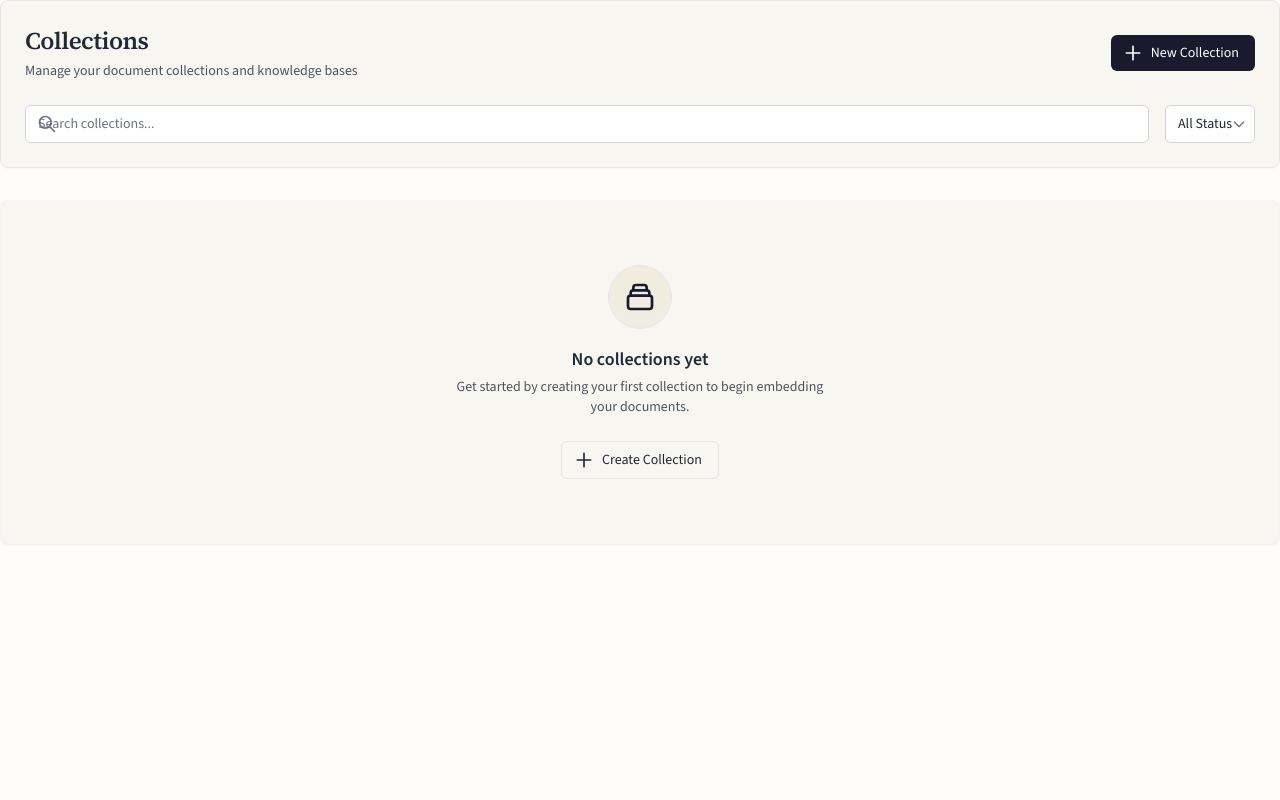
Final Wizard Integration › Wizard Keyboard Navigation › wizard advances with Cmd+Enter when form is valid
This screenshot has width=1280, height=800.
Click the button "New Collection": (1183,53) [1111, 35, 1255, 71]
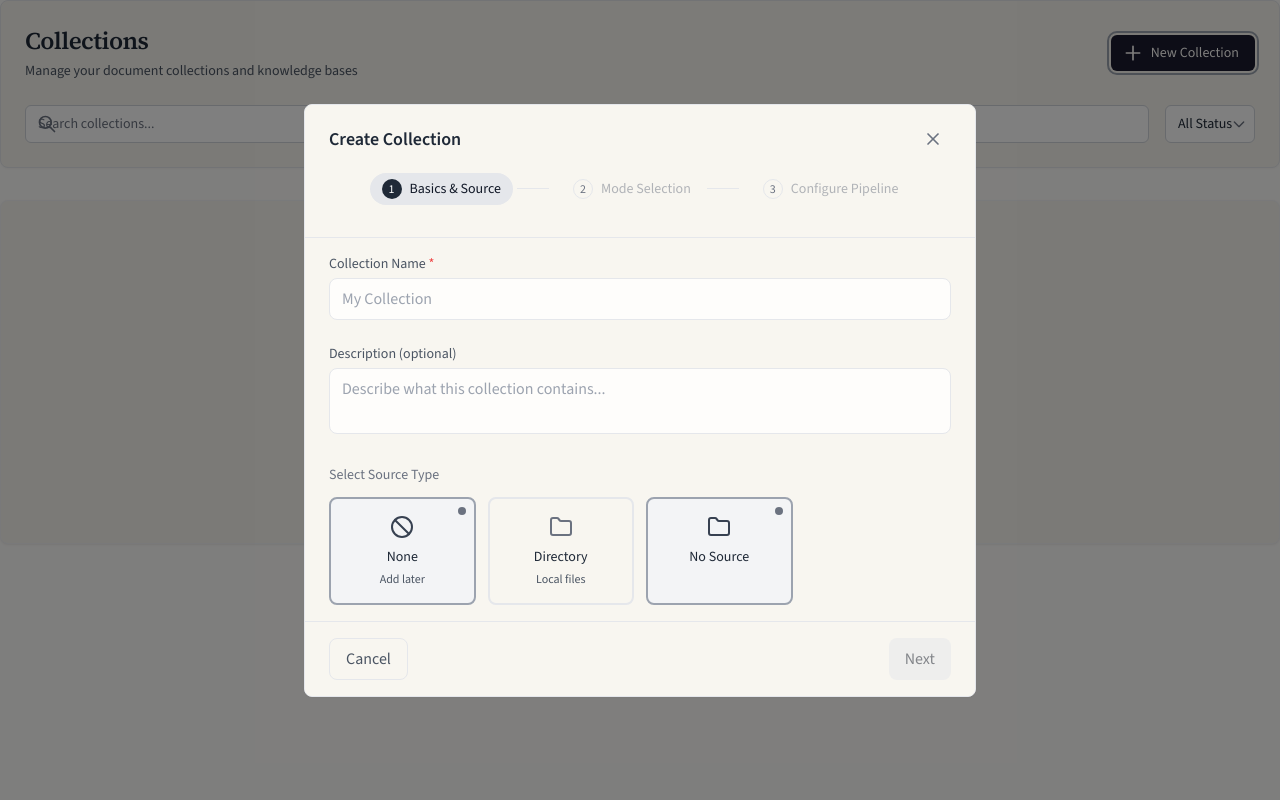
// Fill in collection name
In the field labelled "Collection Name *": (640,298) [329, 278, 951, 320], type "Test Collection"
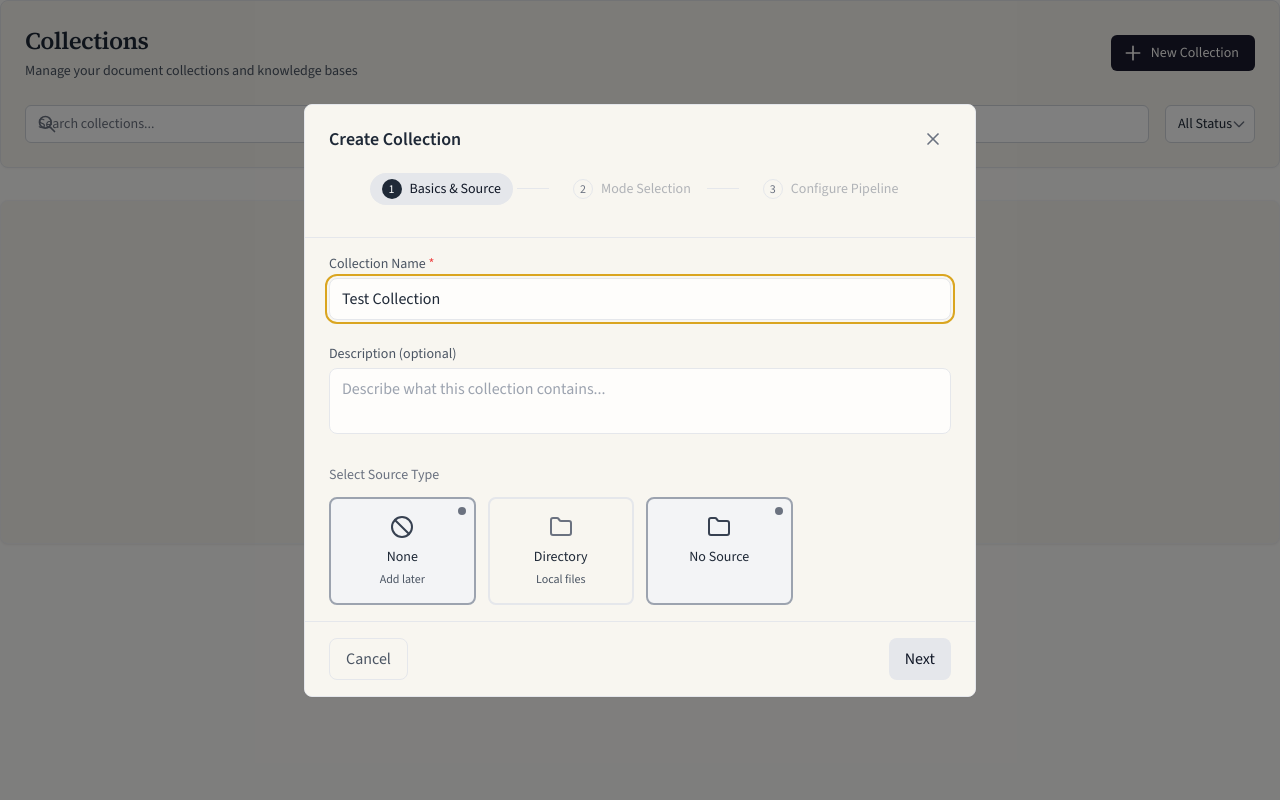
// Use Cmd+Enter to advance
Press Enter
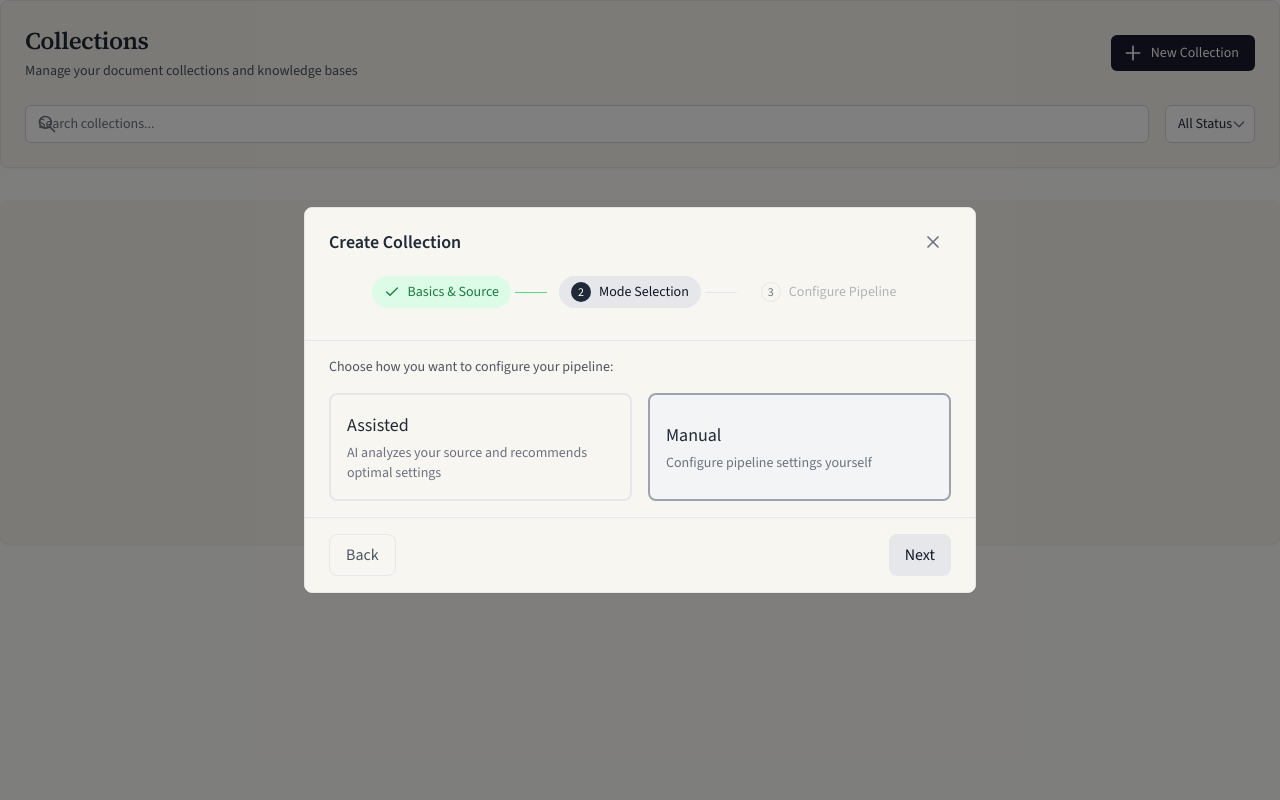
Result: the text "Choose how you want to configure your pipeline:" is shown at [329, 357, 613, 376]
